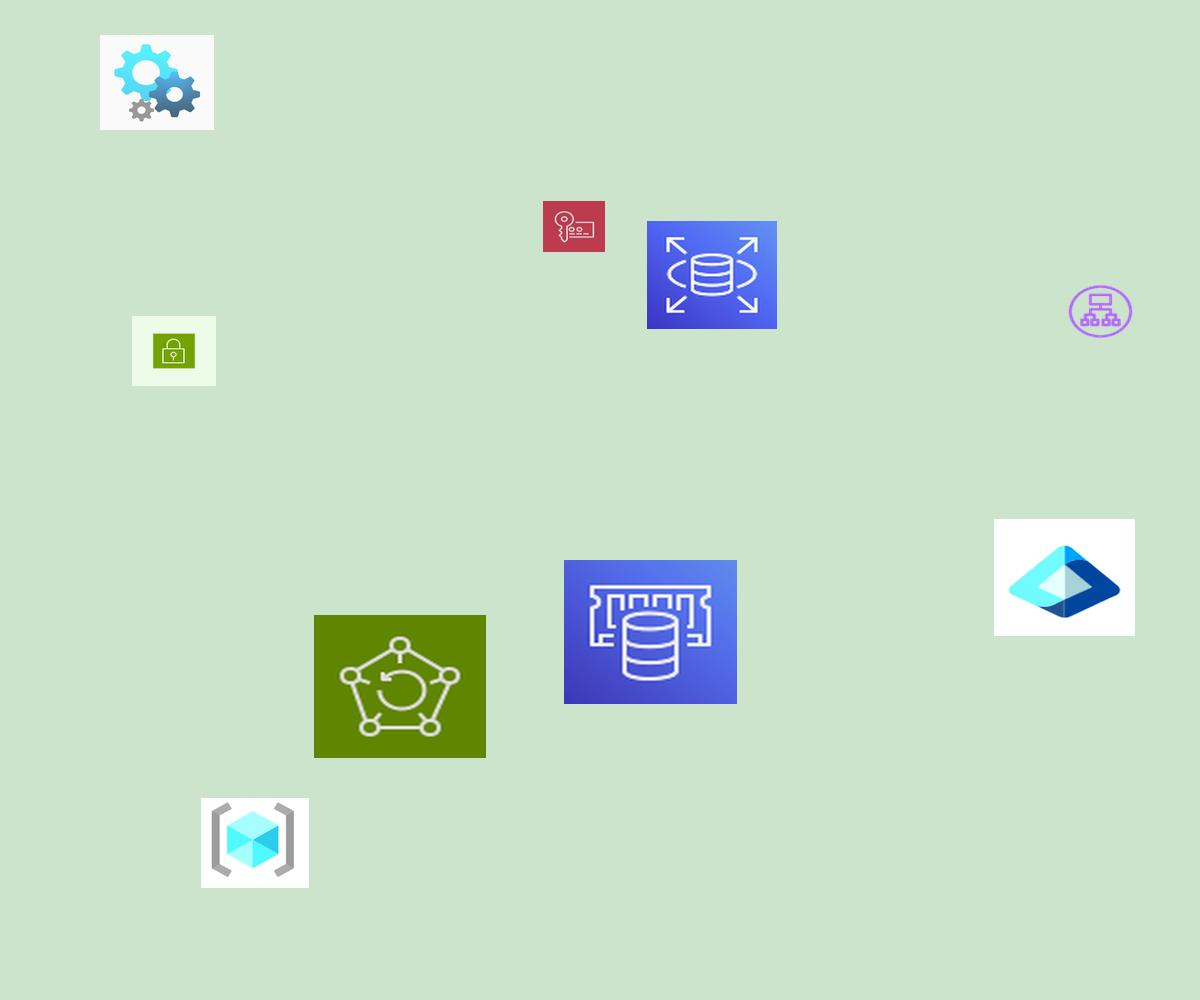AWS-Backup: (314, 615, 486, 758)
AWS-ElastiCache: (564, 560, 737, 704)
AWS-Key-Management-Service: (543, 201, 605, 252)
AWS-Public-subnet: (132, 316, 216, 386)
AWS-RDS: (647, 221, 777, 329)
AWS-Res_Elastic-Load-Balancing_Application-Load-Balancer: (1066, 283, 1135, 340)
Azure_api: (100, 35, 214, 130)
Azure_microsoft_entra: (994, 519, 1135, 636)
Azure_resource_group: (201, 798, 309, 888)
